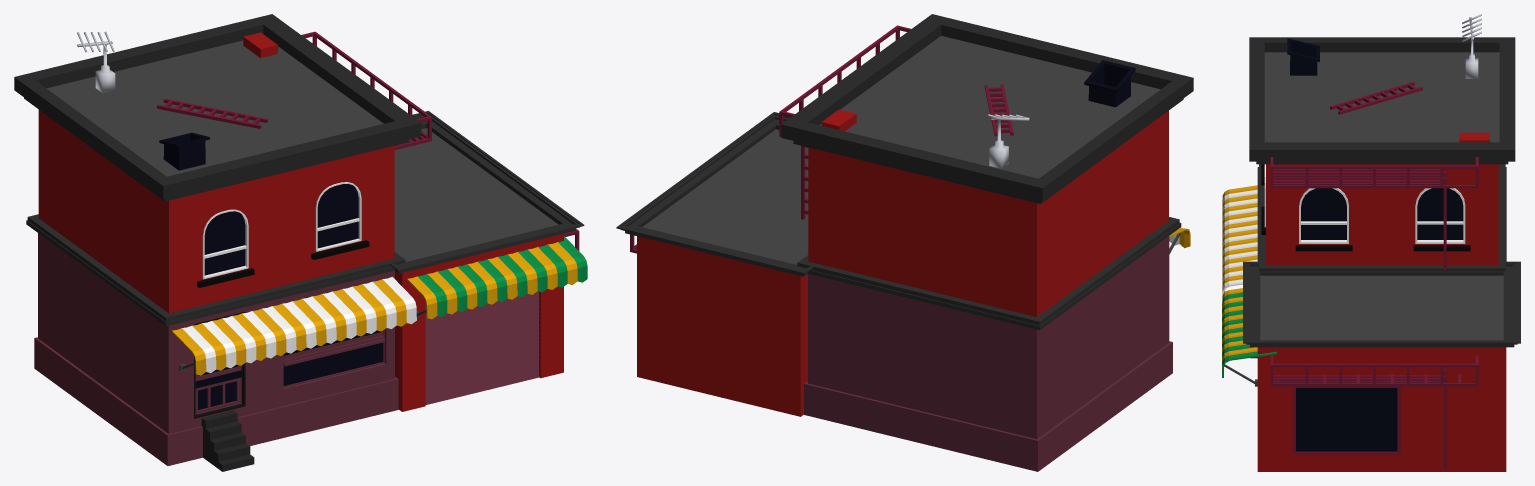
File: Shop.fbx
The picture shows the model from 3 angles, left to right: view 1: azimuth 30°, elevation 25°; view 2: azimuth 150°, elevation 25°; view 3: azimuth 270°, elevation 25°; orthographic projection. The views are drawn at different scales.
Parts seen in each view (by area): view 1: Cube.090; view 2: Cube.090; view 3: Cube.090.
Boxes of the visible parts, box(x1,y1,x2,y2) form: Cube.090: box(14, 14, 587, 471); Cube.090: box(616, 14, 1193, 471); Cube.090: box(1222, 14, 1520, 471).
Size of the model in its own units: 774 by 582 by 525.
